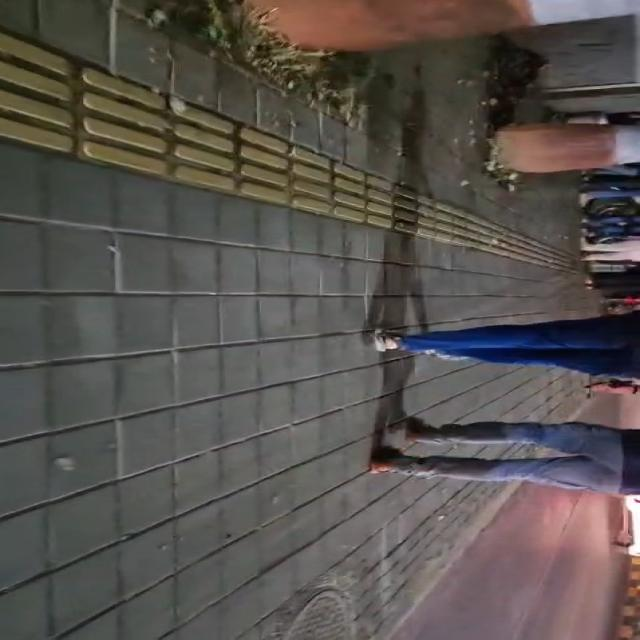obstacle: (370, 422, 639, 493), (374, 313, 639, 378), (583, 238, 639, 262)
vehicle: (283, 590, 354, 639)
